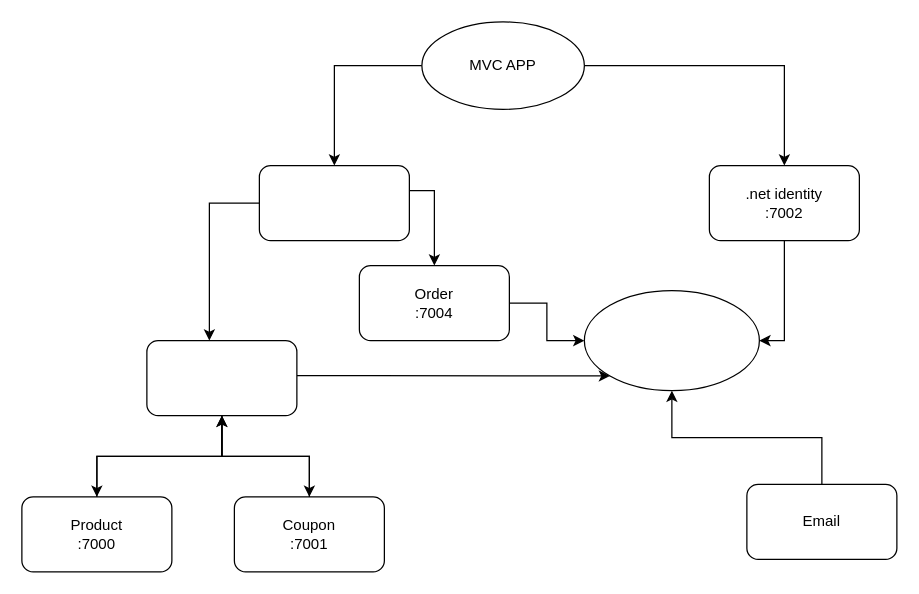
Some shapes in this 919 by 594 pixel diagram are drawn without their labels. Here are the shapes that lost their labels. From the top down, the centre of each, then its label:
At [333,202]: "API Gateway :7777".
At [671,340]: "Service Bus".
At [221,377]: "Shopping Cart :7003".
